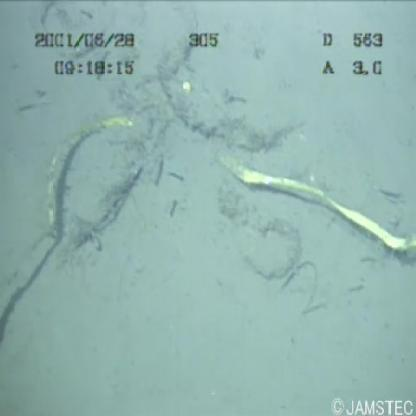Rác: (1, 14, 416, 390)
